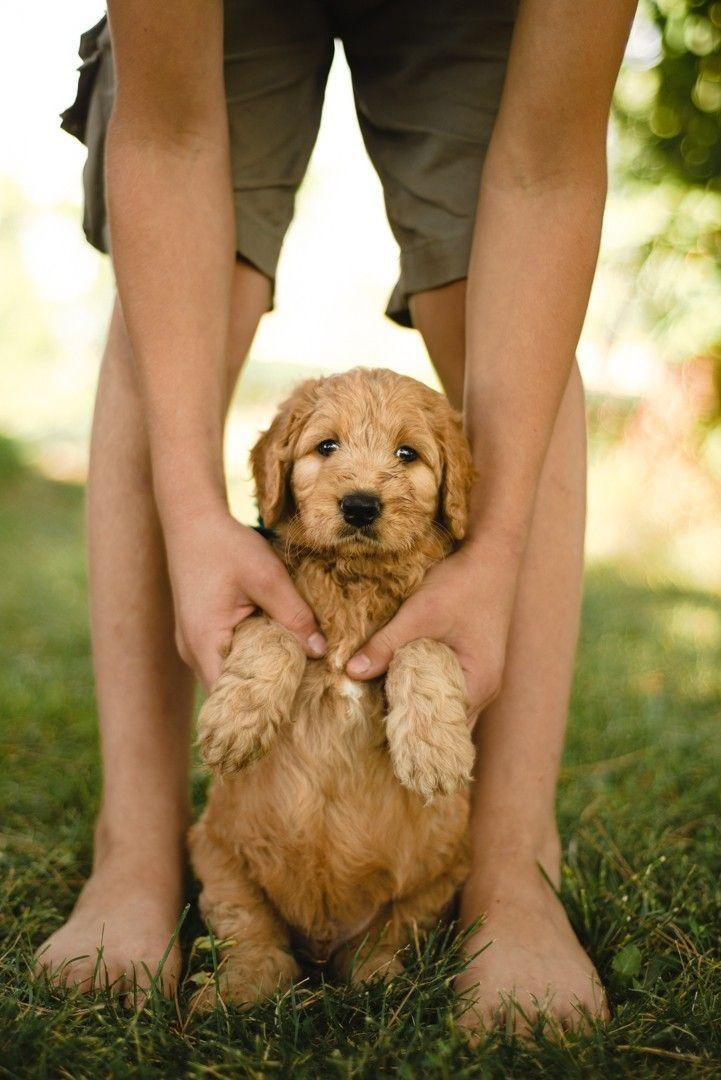non-dog: (21, 0, 643, 1037)
puppy-dog: (190, 361, 477, 1016)
